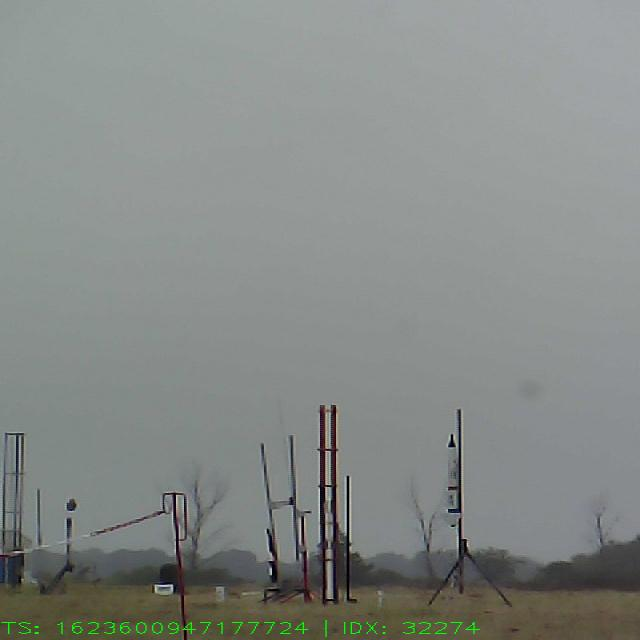Rocket: (443, 433, 465, 527), (266, 522, 282, 584)
